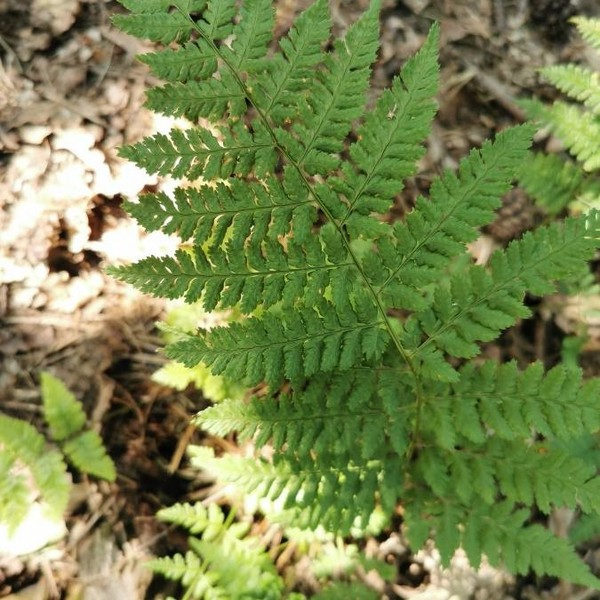obstacle: (114, 24, 571, 536)
